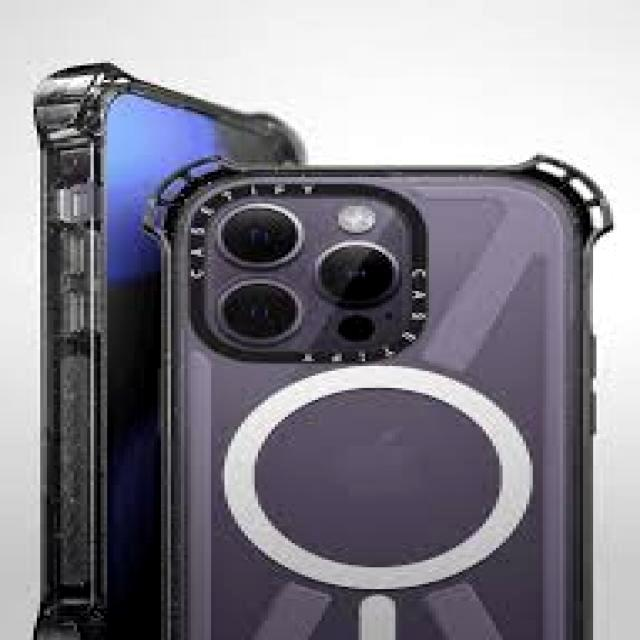lens_back: (208, 271, 305, 355), (312, 233, 402, 310), (211, 203, 308, 269)
phone: (147, 155, 600, 640)
